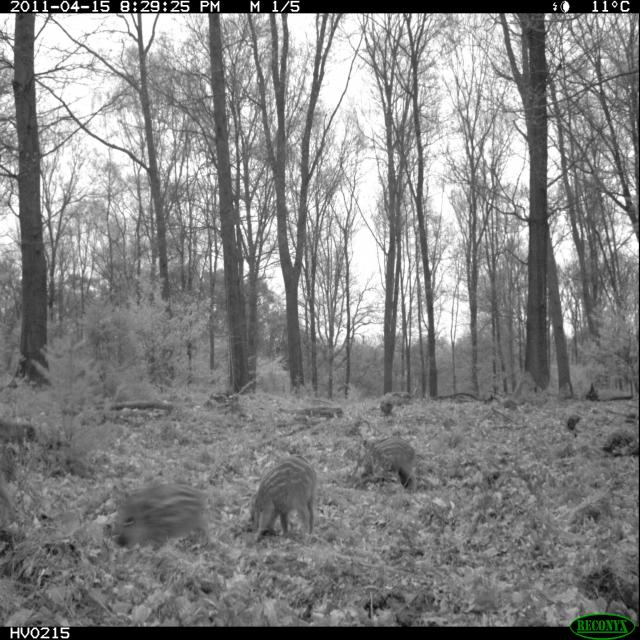boar: (98, 464, 220, 586), (235, 435, 330, 565), (345, 415, 424, 510)
